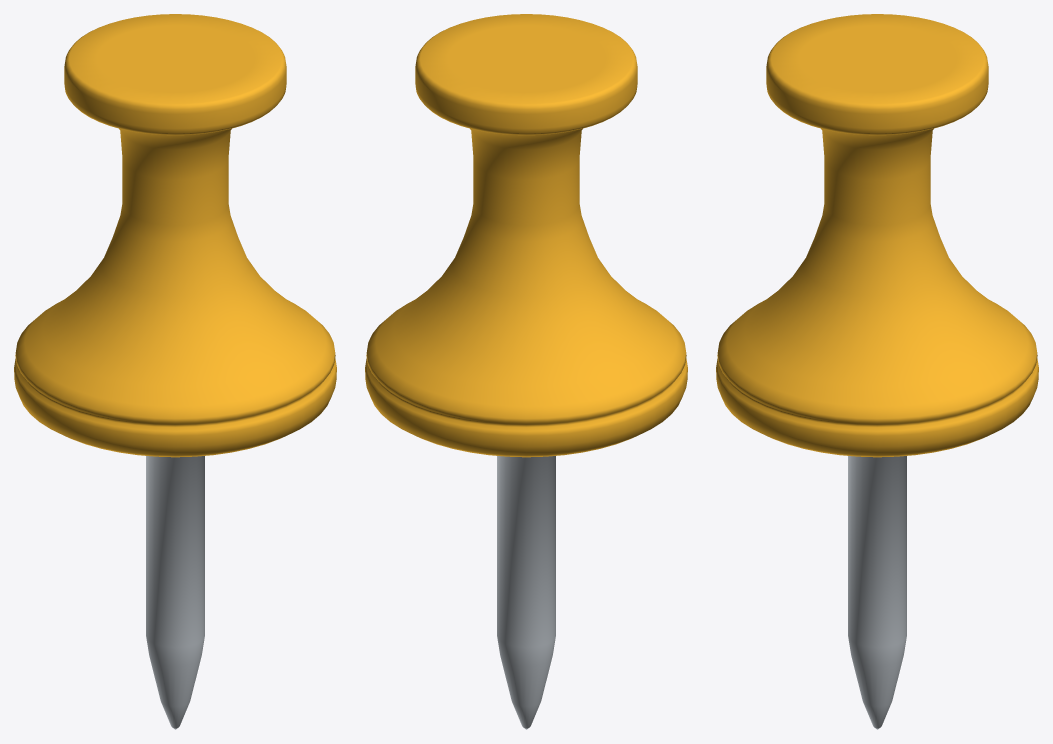
File: thumbtack_yellow.glb
3 renders of one model, left to right at view 1: azimuth 30°, elevation 25°; view 2: azimuth 150°, elevation 25°; view 3: azimuth 270°, elevation 25°, orthographic.
Visible parts, largest first — view 1: Plastic_Head, Steel_Pin; view 2: Plastic_Head, Steel_Pin; view 3: Plastic_Head, Steel_Pin.
Boxes of the visible parts, x1,y1,x2,y2 form: Plastic_Head: (14, 14, 336, 457); Steel_Pin: (146, 456, 204, 729); Plastic_Head: (365, 14, 687, 457); Steel_Pin: (497, 456, 555, 729); Plastic_Head: (716, 14, 1038, 457); Steel_Pin: (848, 456, 906, 729).
Size of the model in its own units: 0.009 by 0.0206 by 0.009.
